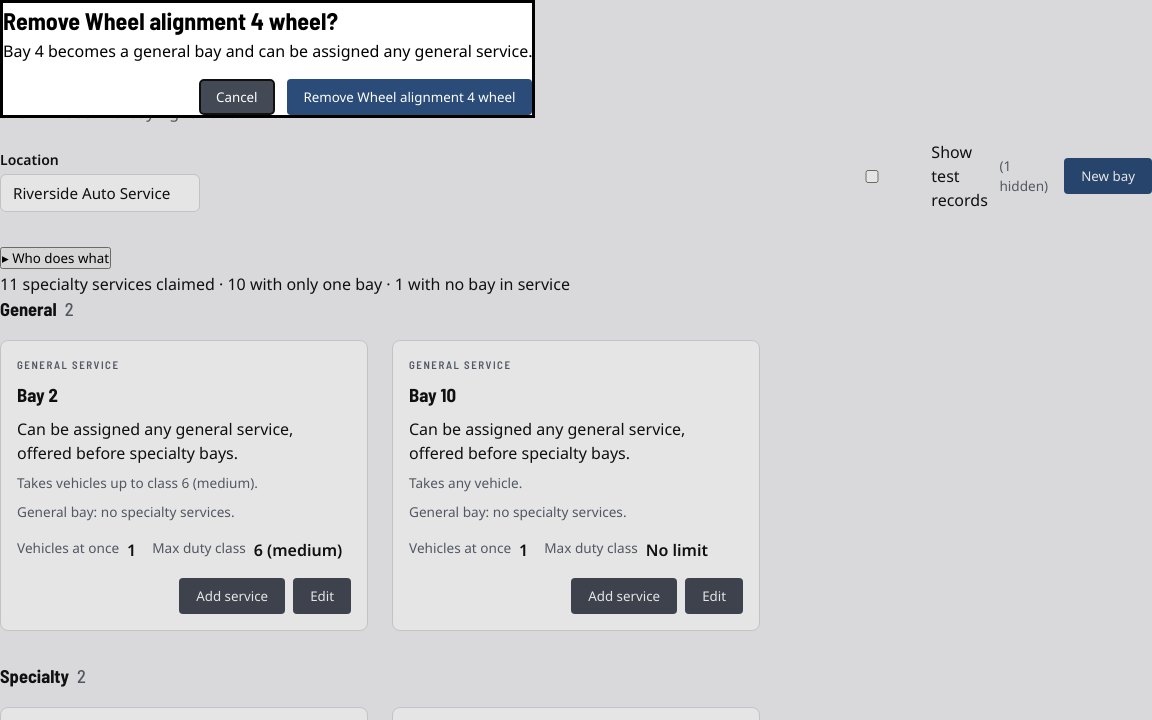
BaysPageComponent › specialty services from the cards › asks before removing a bay's last service
Click the button with class "confirm-remove-btn" at (410, 97), box [286,79,532,115]
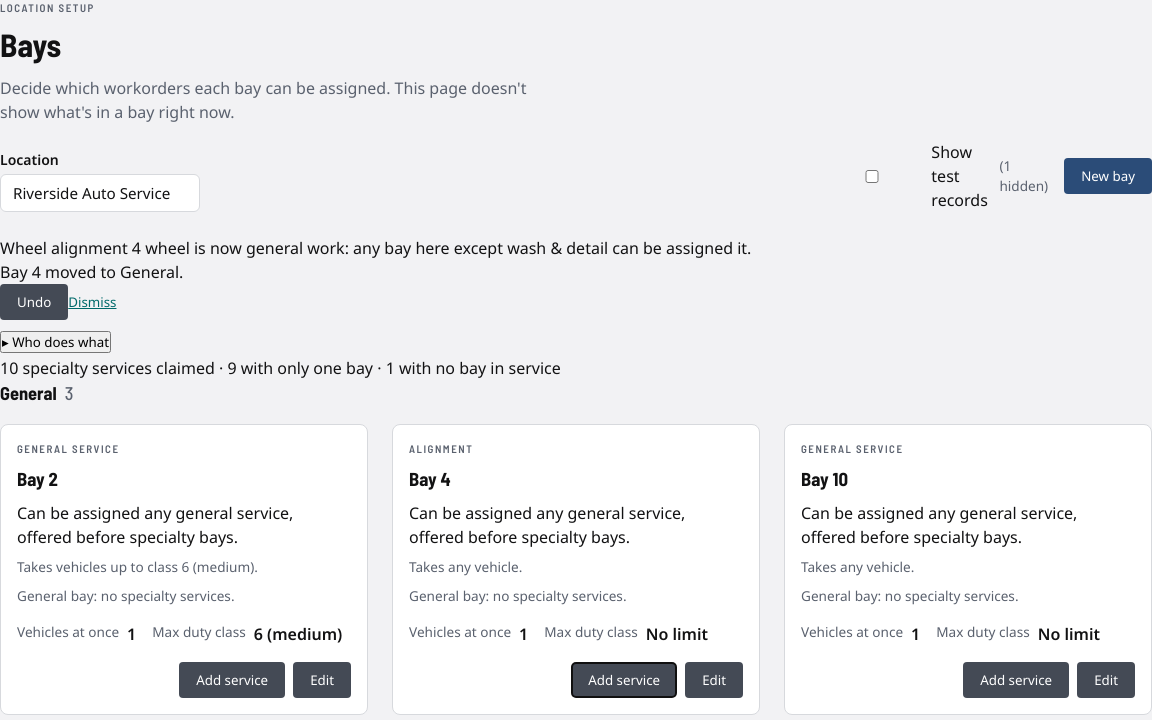
Expected: the element with class "outcome" shows "Bay 4 moved to General.", [0,261,183,283]
